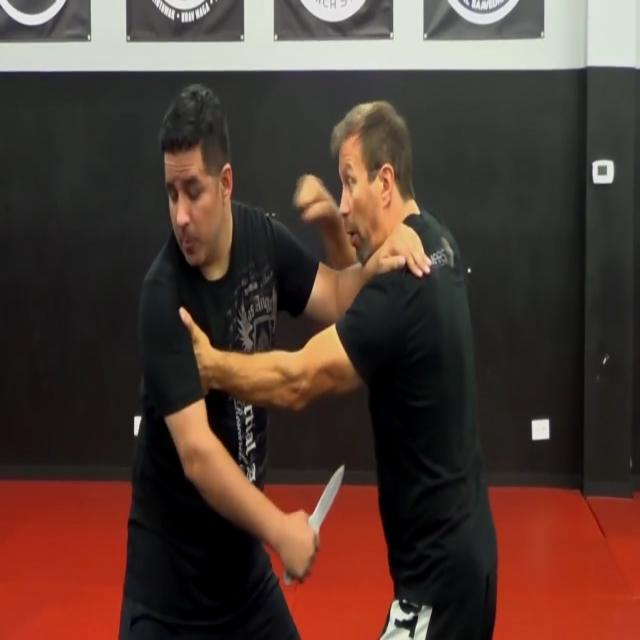knife: (310, 463, 350, 540)
